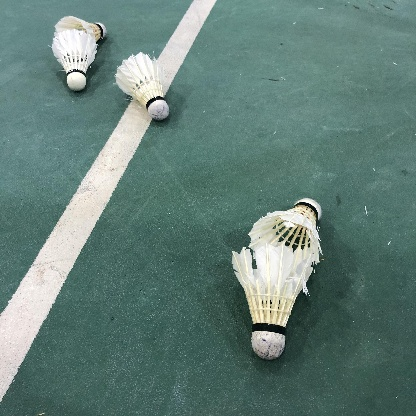ball_single: (232, 244, 314, 360), (248, 198, 321, 270), (116, 51, 169, 120), (52, 29, 97, 91), (54, 16, 107, 49)
